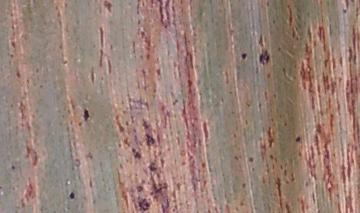tarspot: (257, 48, 270, 65), (131, 145, 142, 161), (83, 105, 90, 123), (14, 68, 22, 80), (340, 4, 349, 14), (67, 188, 75, 199), (293, 134, 301, 144), (9, 38, 17, 48), (155, 66, 162, 77), (240, 51, 247, 61), (247, 155, 255, 163), (9, 163, 17, 170), (200, 161, 208, 168), (8, 51, 15, 58), (77, 119, 83, 127), (342, 1, 351, 6)
